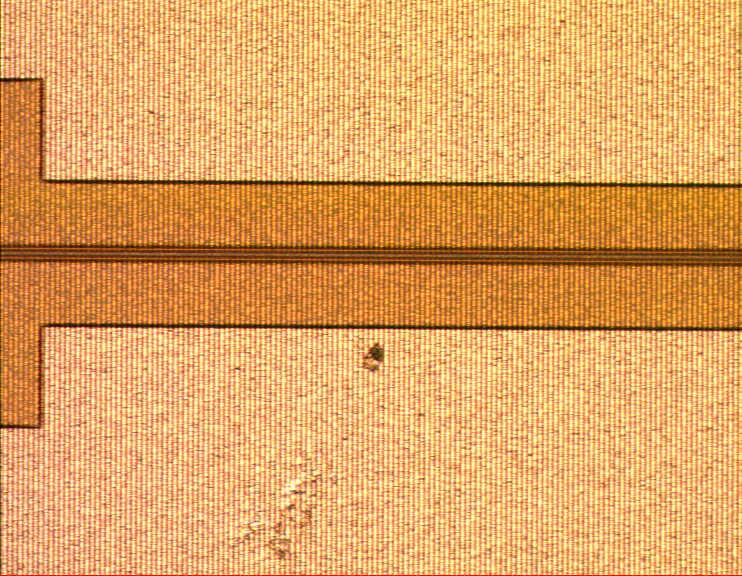BLOCK ETCH: (231, 335, 396, 572)
